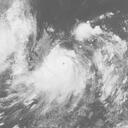cyclone: (39, 47, 87, 92)
